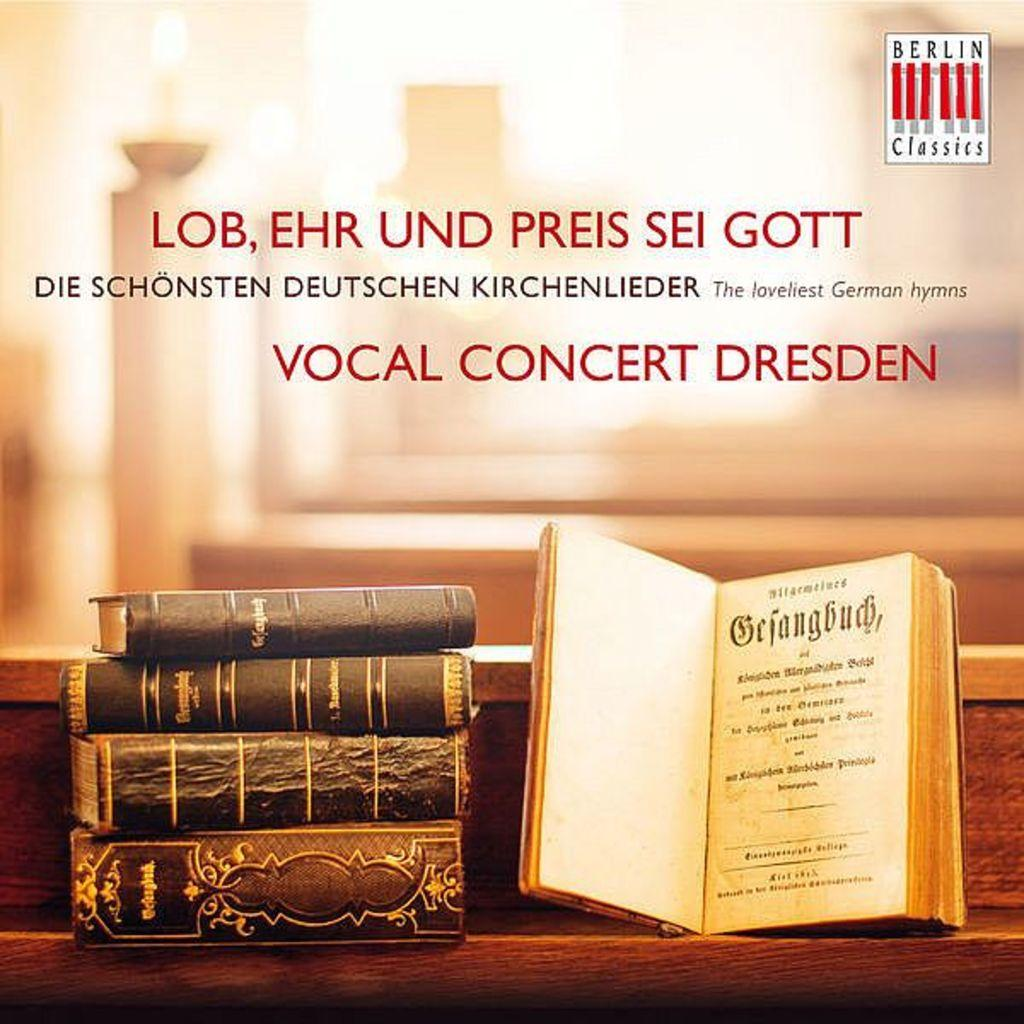book: (524, 541, 968, 981), (67, 817, 469, 964), (61, 734, 498, 816), (49, 657, 485, 730), (92, 582, 480, 650)
